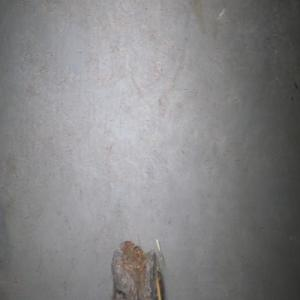Rock: (111, 234, 163, 300)
